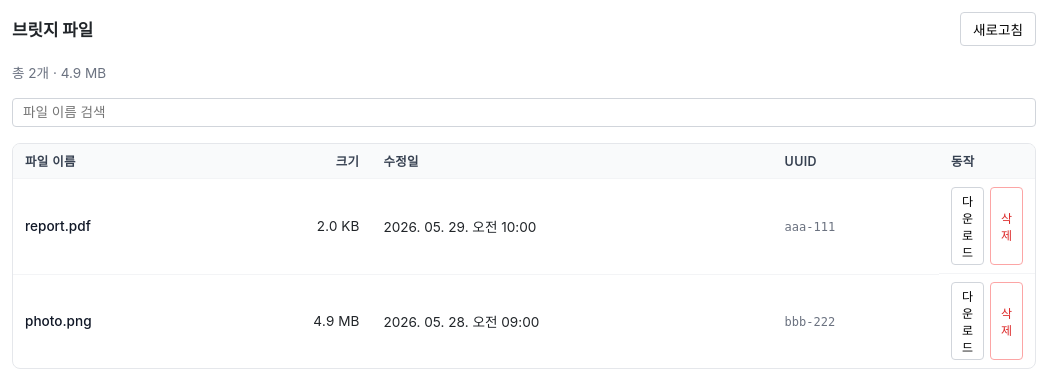
it: /admin/files page › 검색어로 파일 이름을 필터링한다
The image size is (1048, 386).
Expected: the text "report.pdf" is shown, left=13, top=178, right=215, bottom=274
Type "photo" into the search field with placeholder "파일 이름 검색" at (524, 112), box left=12, top=98, right=1036, bottom=127
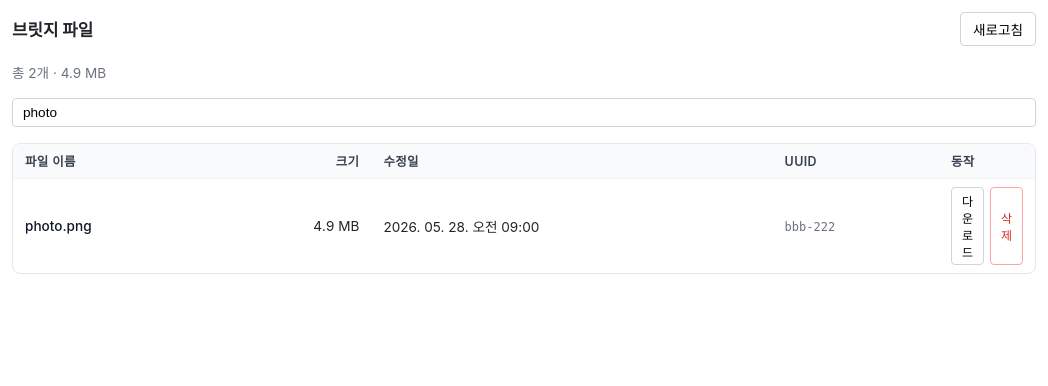
Expected: the text "photo.png" is shown, left=13, top=178, right=215, bottom=273
Expected: the text "report.pdf" is gone
